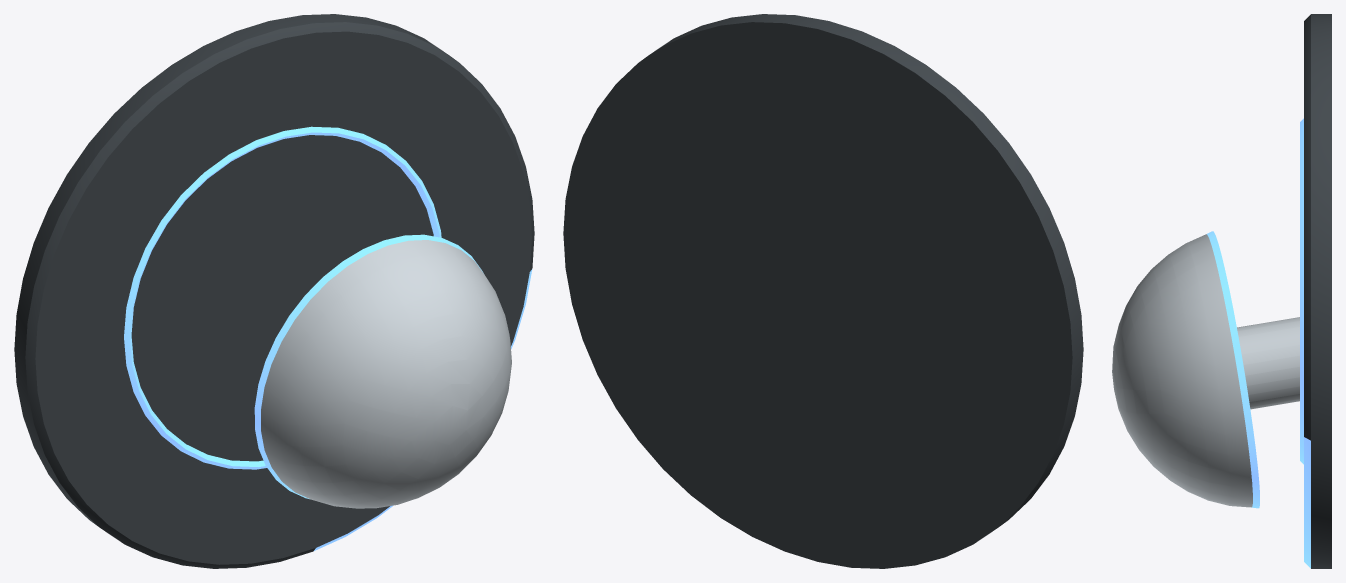
The model's file is virtual-thumbstick-975cdd.glb.
3 renders of one model, left to right at view 1: azimuth 30°, elevation 25°; view 2: azimuth 150°, elevation 25°; view 3: azimuth 270°, elevation 25°, orthographic. The views are drawn at different scales.
Parts seen in each view (by area): view 1: thumbstick, thumbstick-glow; view 2: thumbstick; view 3: thumbstick, thumbstick-glow.
Boxes of the visible parts, x1=… form: thumbstick: x1=14, y1=14, x2=534, y2=568; thumbstick-glow: x1=124, y1=126, x2=532, y2=550; thumbstick: x1=563, y1=14, x2=1083, y2=568; thumbstick: x1=1112, y1=14, x2=1331, y2=568; thumbstick-glow: x1=1206, y1=118, x2=1310, y2=568.
Size of the model in its own units: 0.08 by 0.08 by 0.0317.
